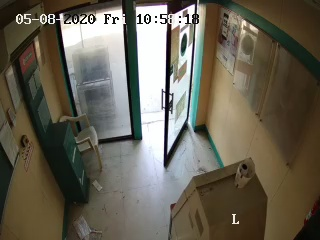open: (123, 1, 199, 170)
